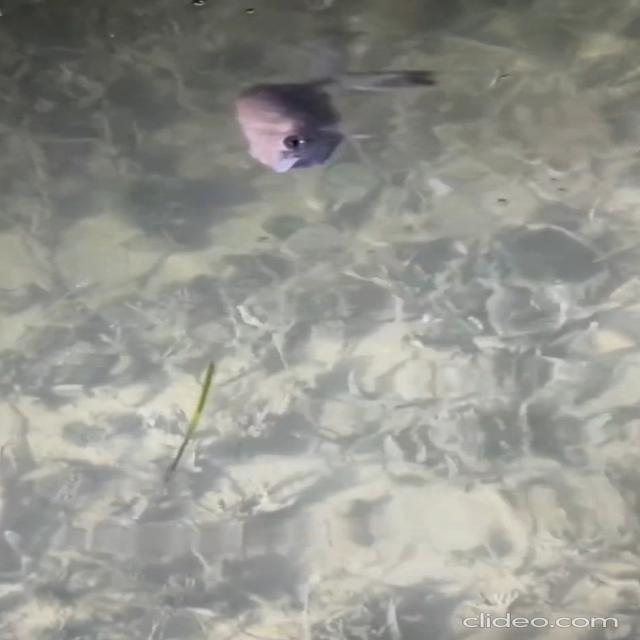fish: (207, 66, 335, 198)
